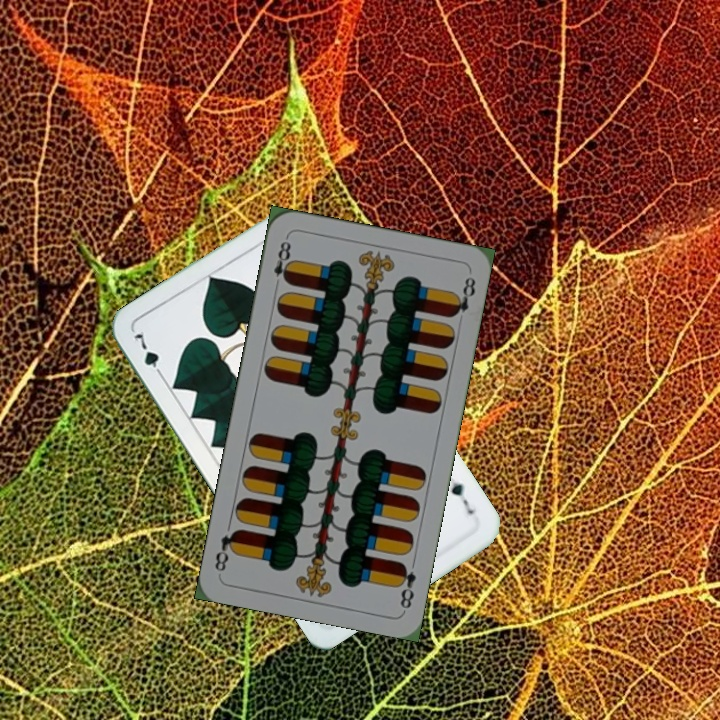E8: (269, 234, 295, 292), (393, 558, 419, 611)
G7: (130, 326, 167, 382), (445, 470, 477, 517)
